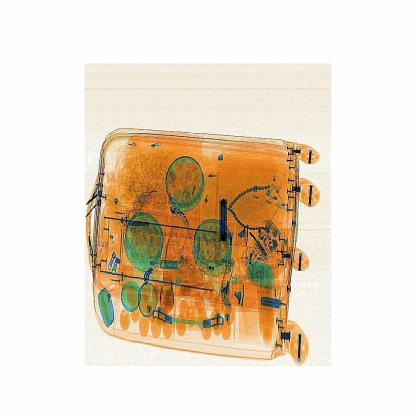scissors: (211, 188, 237, 250)
